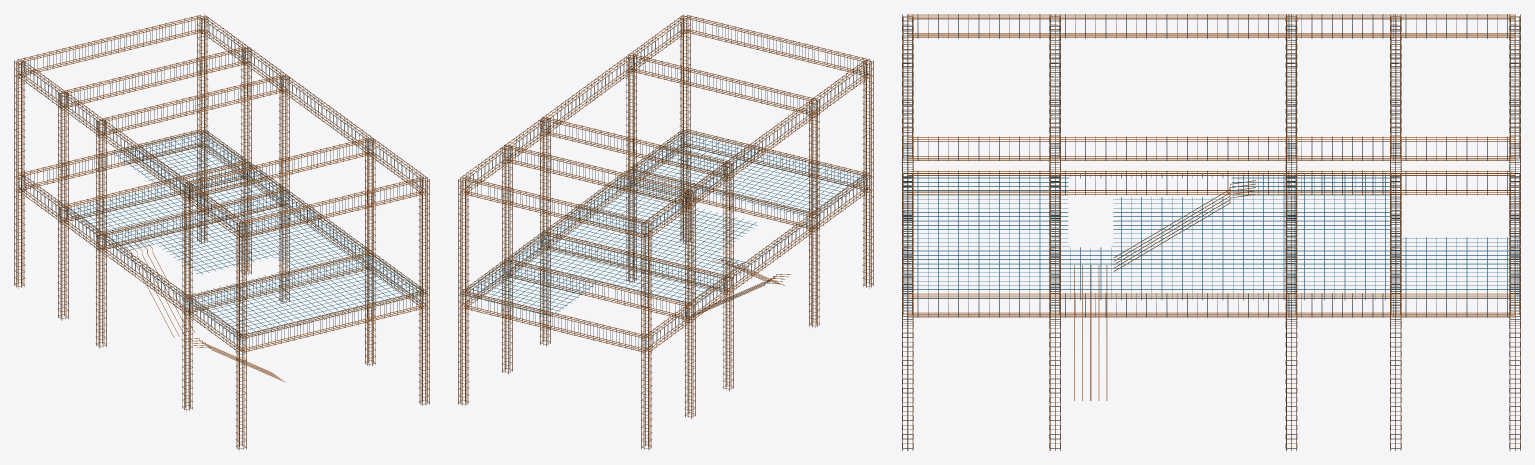
The model's file is reinforcement.glb.
The picture shows the model from 3 angles, left to right: view 1: azimuth 30°, elevation 25°; view 2: azimuth 150°, elevation 25°; view 3: azimuth 270°, elevation 25°; orthographic projection. The views are drawn at different scales.
Visible parts, largest first — view 1: VIS_LT2_lower_mat_only_NOT_full_design__WEB, VIS_K1_A2_main__WEB, VIS_K1_A3_main__WEB, VIS_K1_A4_main__WEB, VIS_K1_B1_main__WEB, VIS_K1_A5_main__WEB, VIS_K1_A1_main__WEB, VIS_K1_B3_main__WEB, VIS_K1_B2_main__WEB, VIS_K1_B4_main__WEB, VIS_K1_B5_main__WEB, VIS_Beam_L2_00_main__WEB (+44 smaller); view 2: VIS_LT2_lower_mat_only_NOT_full_design__WEB, VIS_K1_B5_main__WEB, VIS_K1_A2_main__WEB, VIS_K1_A1_main__WEB, VIS_K1_A4_main__WEB, VIS_K1_A5_main__WEB, VIS_K1_A3_main__WEB, VIS_K1_B4_main__WEB, VIS_K1_B2_main__WEB, VIS_K1_B3_main__WEB, VIS_K1_B1_main__WEB, VIS_Beam_L1_04_main__WEB (+42 smaller); view 3: VIS_LT2_lower_mat_only_NOT_full_design__WEB, VIS_Beam_L1_10_main__WEB, VIS_Beam_L2_06_main__WEB, VIS_Beam_L1_09_main__WEB, VIS_Beam_L2_10_main__WEB, VIS_Beam_L2_05_main__WEB, VIS_K1_B1_main__WEB, VIS_Beam_L1_06_main__WEB, VIS_Beam_L1_12_main__WEB, VIS_Beam_L2_08_main__WEB, VIS_K1_B2_main__WEB, VIS_K1_B5_main__WEB (+34 smaller).
Part boxes in pixels (bbox=[...]): VIS_LT2_lower_mat_only_NOT_full_design__WEB: bbox=[63, 130, 427, 340]; VIS_K1_A2_main__WEB: bbox=[182, 182, 192, 411]; VIS_K1_A3_main__WEB: bbox=[96, 119, 106, 348]; VIS_K1_A4_main__WEB: bbox=[58, 91, 68, 320]; VIS_K1_B1_main__WEB: bbox=[419, 177, 429, 405]; VIS_K1_A5_main__WEB: bbox=[14, 59, 24, 288]; VIS_K1_A1_main__WEB: bbox=[236, 220, 246, 450]; VIS_K1_B3_main__WEB: bbox=[279, 74, 289, 303]; VIS_K1_B2_main__WEB: bbox=[365, 138, 375, 366]; VIS_K1_B4_main__WEB: bbox=[241, 46, 251, 275]; VIS_K1_B5_main__WEB: bbox=[197, 14, 207, 244]; VIS_Beam_L2_00_main__WEB: bbox=[240, 177, 425, 238]; VIS_LT2_lower_mat_only_NOT_full_design__WEB: bbox=[459, 130, 870, 316]; VIS_K1_B5_main__WEB: bbox=[458, 177, 468, 405]; VIS_K1_A2_main__WEB: bbox=[809, 99, 819, 327]; VIS_K1_A1_main__WEB: bbox=[863, 59, 873, 288]; VIS_K1_A4_main__WEB: bbox=[685, 190, 695, 418]; VIS_K1_A5_main__WEB: bbox=[641, 220, 651, 450]; VIS_K1_A3_main__WEB: bbox=[723, 162, 733, 391]; VIS_K1_B4_main__WEB: bbox=[502, 145, 512, 374]; VIS_K1_B2_main__WEB: bbox=[626, 54, 636, 283]; VIS_K1_B3_main__WEB: bbox=[540, 117, 550, 346]; VIS_K1_B1_main__WEB: bbox=[680, 14, 690, 244]; VIS_Beam_L1_04_main__WEB: bbox=[462, 291, 647, 352]; VIS_LT2_lower_mat_only_NOT_full_design__WEB: bbox=[903, 173, 1519, 300]; VIS_Beam_L1_10_main__WEB: bbox=[1055, 293, 1291, 317]; VIS_Beam_L2_06_main__WEB: bbox=[1055, 14, 1291, 37]; VIS_Beam_L1_09_main__WEB: bbox=[908, 293, 1054, 317]; VIS_Beam_L2_10_main__WEB: bbox=[1055, 137, 1291, 160]; VIS_Beam_L2_05_main__WEB: bbox=[908, 14, 1054, 37]; VIS_K1_B1_main__WEB: bbox=[902, 137, 913, 450]; VIS_Beam_L1_06_main__WEB: bbox=[1055, 171, 1291, 194]; VIS_Beam_L1_12_main__WEB: bbox=[1396, 293, 1514, 317]; VIS_Beam_L2_08_main__WEB: bbox=[1396, 14, 1514, 37]; VIS_K1_B2_main__WEB: bbox=[1049, 138, 1060, 450]; VIS_K1_B5_main__WEB: bbox=[1509, 137, 1520, 450].
Bounding box in the file's own units: 5.93 × 6.83 × 12.18.
